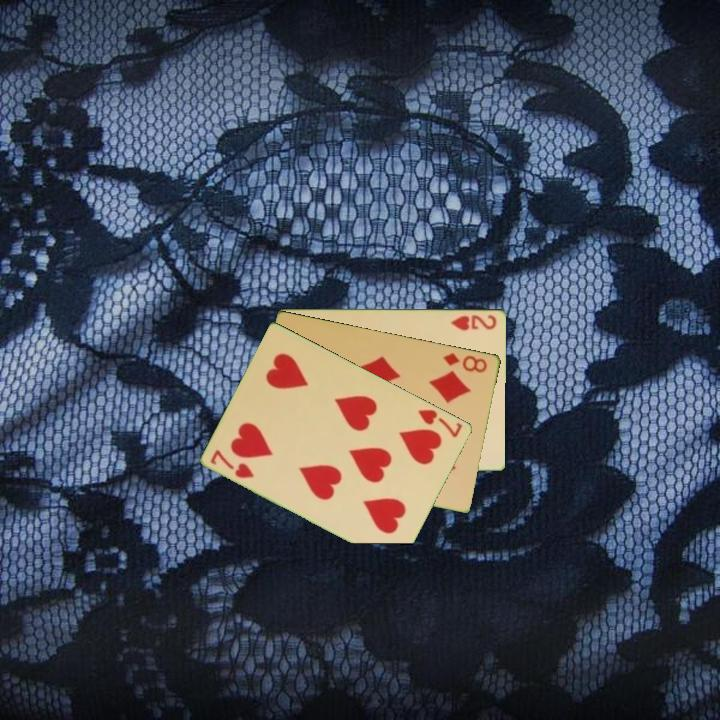2h: (447, 311, 499, 333)
7h: (415, 405, 465, 441), (207, 446, 258, 481)
8d: (439, 349, 490, 375)
